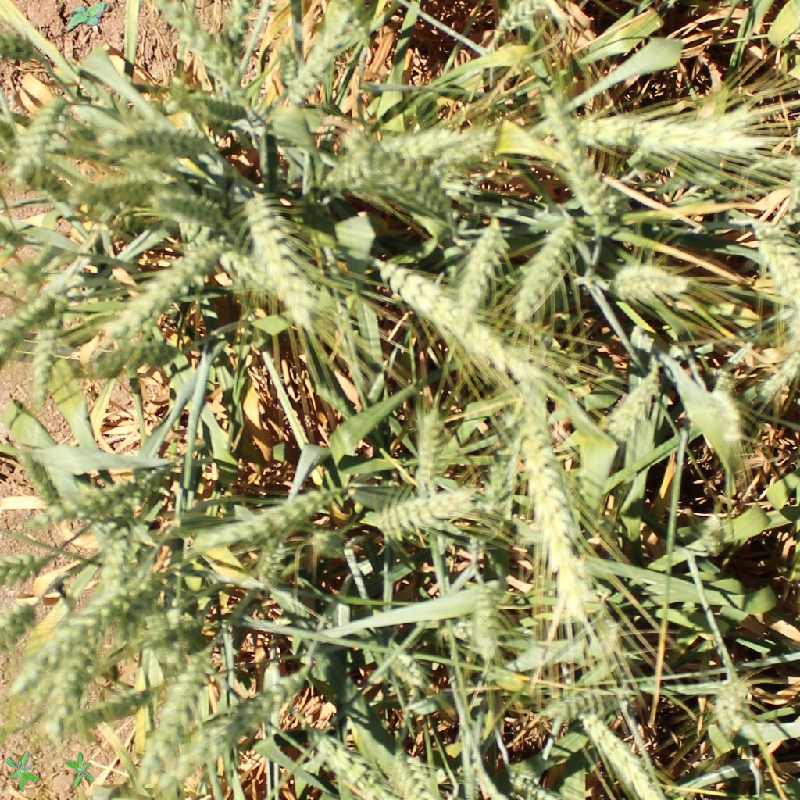spikelet: (375, 261, 547, 382), (511, 379, 592, 626), (107, 238, 221, 336), (135, 653, 211, 794), (242, 191, 319, 327), (568, 111, 763, 164), (175, 687, 278, 778), (282, 1, 363, 104), (579, 711, 662, 799), (307, 730, 409, 799), (511, 216, 577, 321), (333, 148, 452, 204), (751, 217, 800, 352), (552, 134, 620, 230), (364, 483, 476, 541), (231, 483, 337, 541), (631, 119, 758, 159), (454, 219, 507, 314), (8, 94, 69, 176), (604, 371, 662, 442), (540, 681, 636, 722), (147, 185, 227, 230), (91, 521, 140, 594), (112, 124, 215, 158), (463, 577, 505, 660), (409, 402, 448, 491), (375, 125, 469, 161), (609, 261, 691, 302), (391, 750, 453, 799), (568, 110, 645, 149), (702, 384, 745, 448), (26, 320, 61, 397), (138, 604, 201, 645), (711, 675, 753, 731), (757, 347, 800, 401), (506, 763, 566, 800), (380, 643, 427, 690), (494, 1, 558, 35), (1, 596, 36, 657), (1, 544, 51, 586), (252, 537, 290, 587), (220, 1, 257, 40), (308, 527, 347, 559)
weed: (1, 744, 48, 794), (57, 749, 101, 794), (60, 1, 113, 36)
